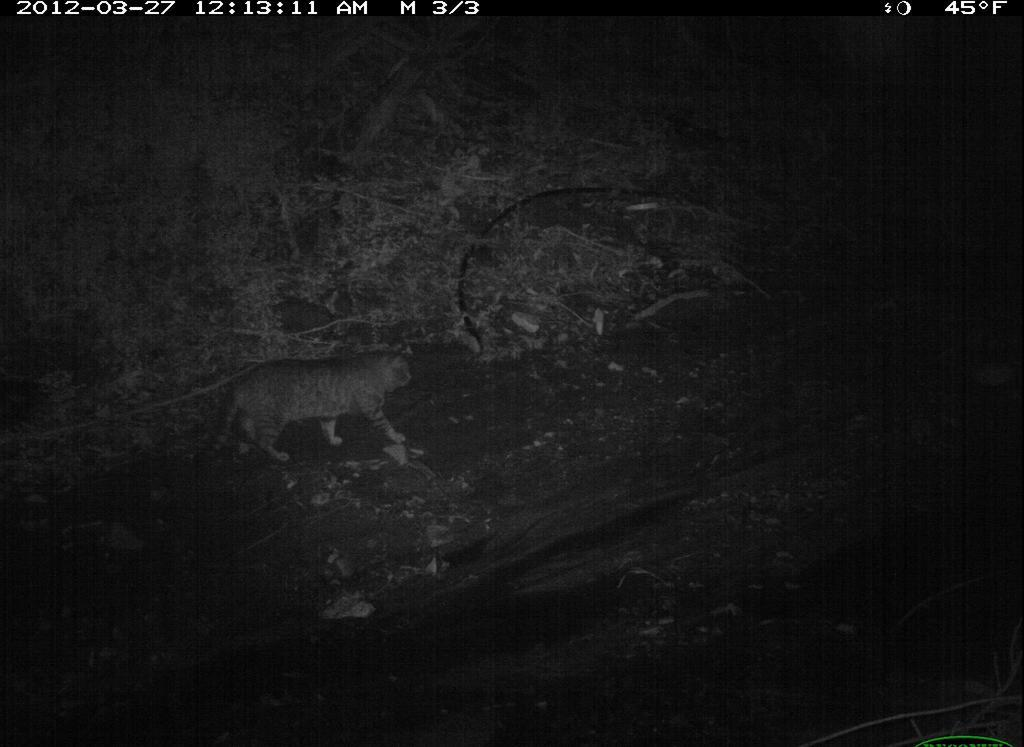cat: (195, 335, 418, 482)
